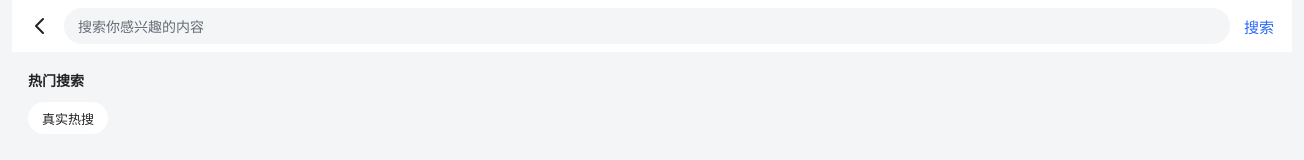
Test: Search 输入联想（E2） › **慢请求不覆盖新输入的结果**（代际守卫，否则下拉落后于输入）
Type "暴" into the dropdown with placeholder "搜索你感兴趣的内容" at (647, 26), box [64, 8, 1230, 44]
Wait 400 ms
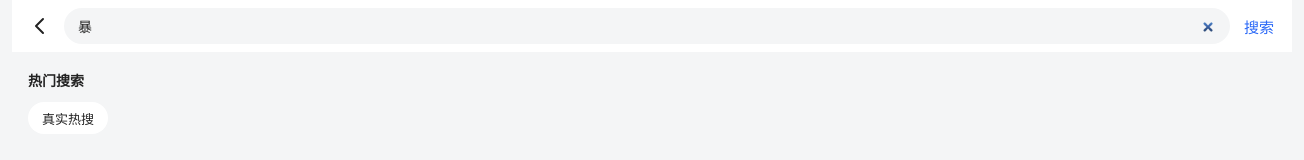
Replace the text in the dropdown named "搜索" with "暴雨" at (647, 26), box [64, 8, 1230, 44]
Wait 400 ms
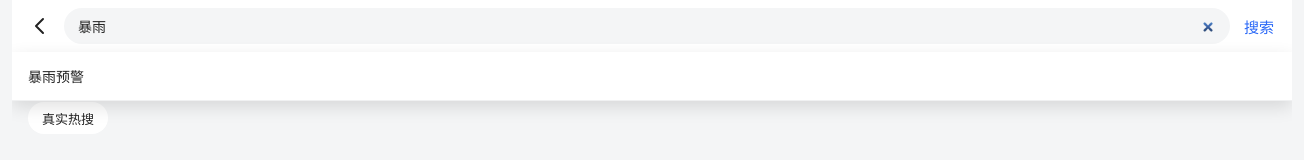
Expected: the text "暴雨预警" is shown, [28, 66, 84, 86]
